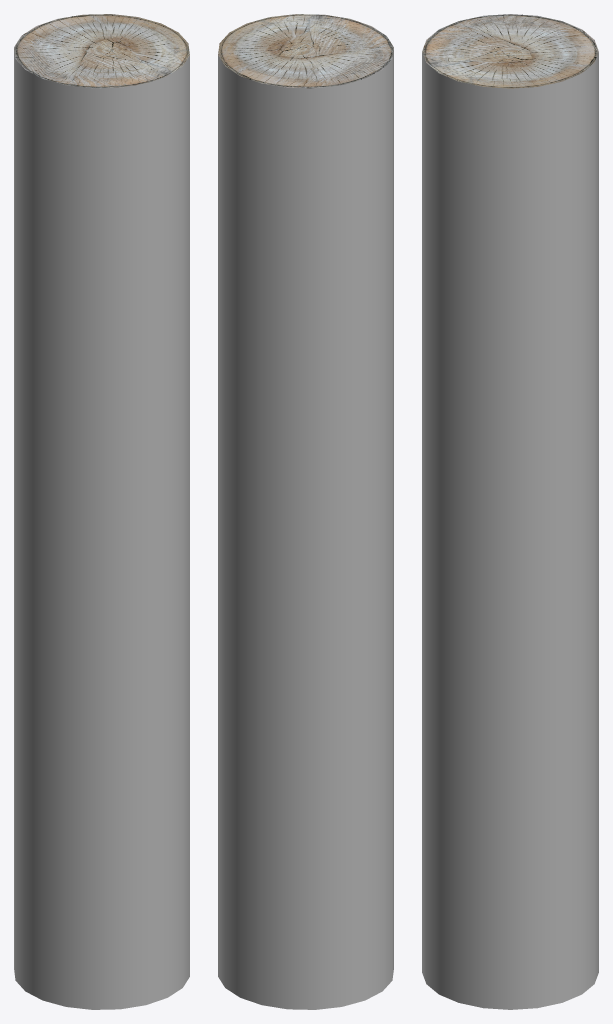
Rendered from log_1.fbx.
3 views of the same model, side by side, from view 1: azimuth 30°, elevation 25°; view 2: azimuth 150°, elevation 25°; view 3: azimuth 270°, elevation 25° (orthographic).
Parts seen in each view (by area): view 1: log_1; view 2: log_1; view 3: log_1.
Boxes of the visible parts, x1,y1,x2,y2 form: log_1: (14,14,189,1009); log_1: (218,14,393,1009); log_1: (422,14,598,1009).
Bounding box in the file's own units: 0.348 × 2 × 0.348.
